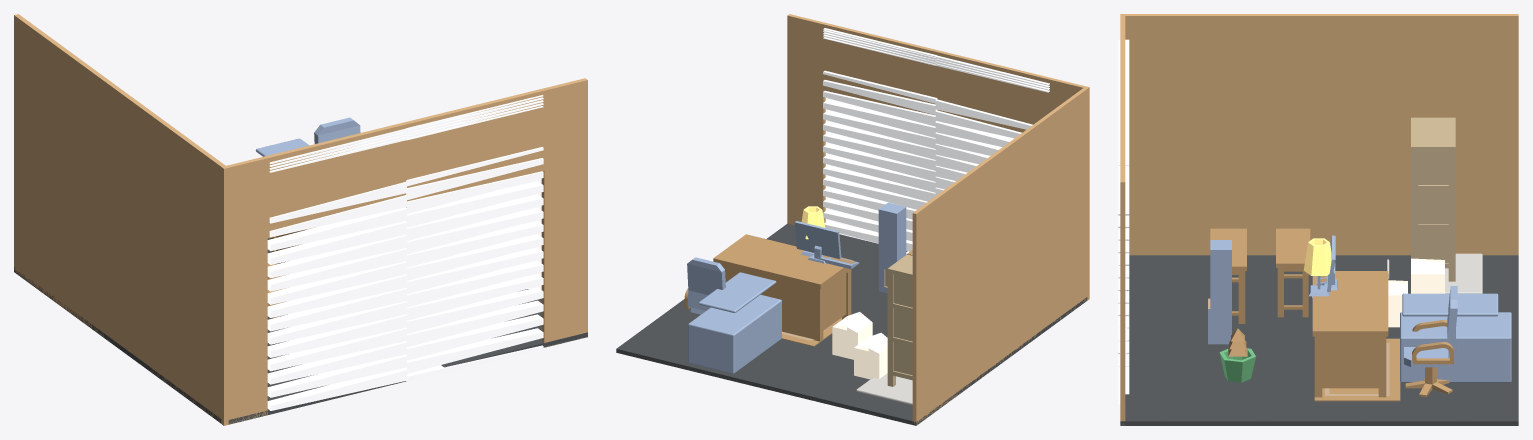
File: garage-interior-room-kit-owner-fail-6376f172.glb
3 renders of one model, left to right at view 1: azimuth 30°, elevation 25°; view 2: azimuth 150°, elevation 25°; view 3: azimuth 270°, elevation 25°, orthographic. The views are drawn at different scales.
Parts seen in each view (by area): view 1: kit_wall_back, kit_roll_door, kit_floor, kit_wall_corner, prop_chair; view 2: kit_wall_back, kit_roll_door, kit_floor, prop_desk, prop_server, prop_bookcase, prop_speaker, prop_chair, prop_screen, prop_box_a, prop_box_b, prop_whiteboard (+2 smaller); view 3: kit_wall_back, kit_floor, prop_desk, prop_server, prop_bookcase, kit_roll_door, prop_chair, prop_speaker, prop_tool_table, prop_rug, prop_workbench, prop_whiteboard (+5 smaller).
Part boxes in pixels (<box>): kit_wall_back: <box>14,14,587,424</box>; kit_roll_door: <box>267,95,543,410</box>; kit_floor: <box>14,238,587,424</box>; kit_wall_corner: <box>221,167,228,425</box>; prop_chair: <box>314,117,360,143</box>; kit_wall_back: <box>787,14,1089,425</box>; kit_roll_door: <box>823,28,1049,254</box>; kit_floor: <box>616,223,1087,425</box>; prop_desk: <box>713,234,853,341</box>; prop_server: <box>688,272,781,373</box>; prop_bookcase: <box>887,254,912,386</box>; prop_speaker: <box>878,202,906,293</box>; prop_chair: <box>684,257,725,314</box>; prop_screen: <box>794,221,841,263</box>; prop_box_a: <box>854,332,887,379</box>; prop_box_b: <box>832,312,872,359</box>; prop_whiteboard: <box>856,373,912,405</box>; kit_wall_back: <box>1120,14,1518,425</box>; kit_floor: <box>1120,255,1518,425</box>; prop_desk: <box>1312,271,1388,397</box>; prop_server: <box>1400,293,1511,382</box>; prop_bookcase: <box>1411,117,1455,281</box>; kit_roll_door: <box>1118,39,1129,404</box>; prop_chair: <box>1404,286,1457,396</box>; prop_speaker: <box>1208,240,1231,344</box>; prop_tool_table: <box>1276,228,1310,317</box>; prop_rug: <box>1314,338,1400,401</box>; prop_workbench: <box>1210,228,1246,323</box>; prop_whiteboard: <box>1386,253,1482,293</box>.
Bounding box in the file's own units: 4 × 2.7 × 4.02.
29 materials, 1 textured.
